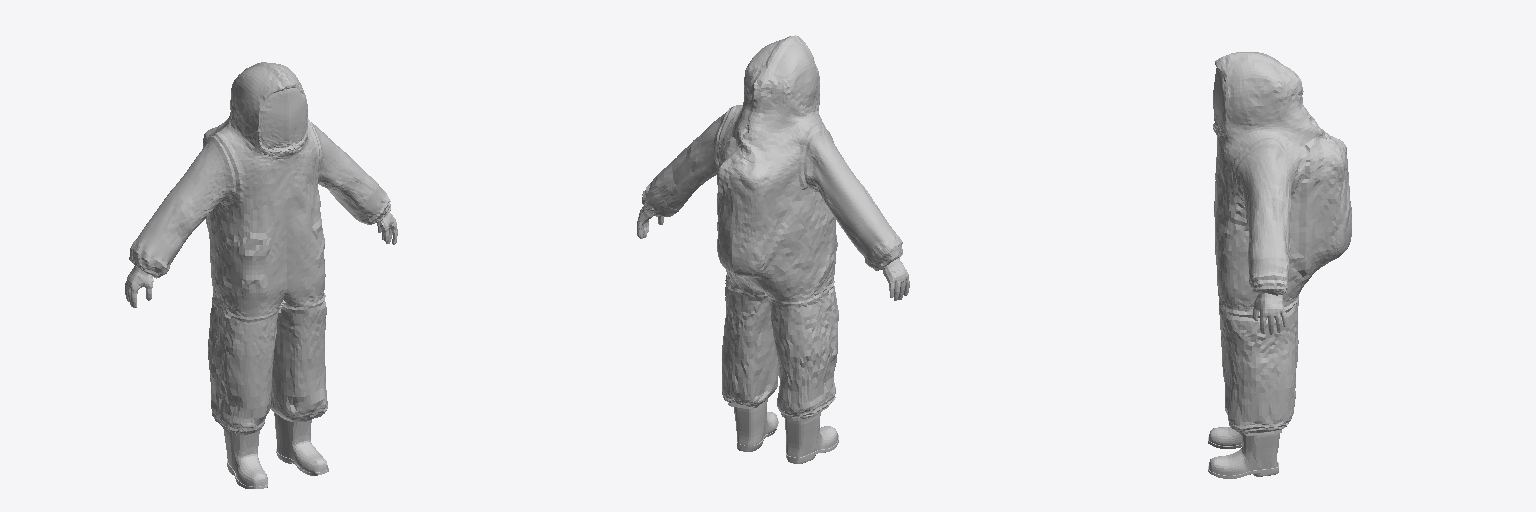
The model's file is player.obj.
The picture shows the model from 3 angles: view 1: azimuth 30°, elevation 25°; view 2: azimuth 150°, elevation 25°; view 3: azimuth 270°, elevation 25°; orthographic projection.
Visible parts, largest first — view 1: suit_Cube.010, boots_Cube.011, gloves_Cube.012; view 2: suit_Cube.010, boots_Cube.011, gloves_Cube.012; view 3: suit_Cube.010, boots_Cube.011, gloves_Cube.012.
Boxes of the visible parts, x1=… form: suit_Cube.010: x1=129, y1=62, x2=390, y2=434; boots_Cube.011: x1=223, y1=413, x2=328, y2=488; gloves_Cube.012: x1=125, y1=212, x2=397, y2=307; suit_Cube.010: x1=642, y1=35, x2=902, y2=421; boots_Cube.011: x1=734, y1=399, x2=838, y2=463; gloves_Cube.012: x1=637, y1=206, x2=909, y2=300; suit_Cube.010: x1=1213, y1=52, x2=1351, y2=435; boots_Cube.011: x1=1208, y1=427, x2=1279, y2=478; gloves_Cube.012: x1=1253, y1=293, x2=1286, y2=334.
Size of the model in its own units: 2.43 by 3.53 by 1.14.